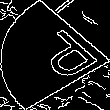P_SE: (13, 24, 97, 86)
